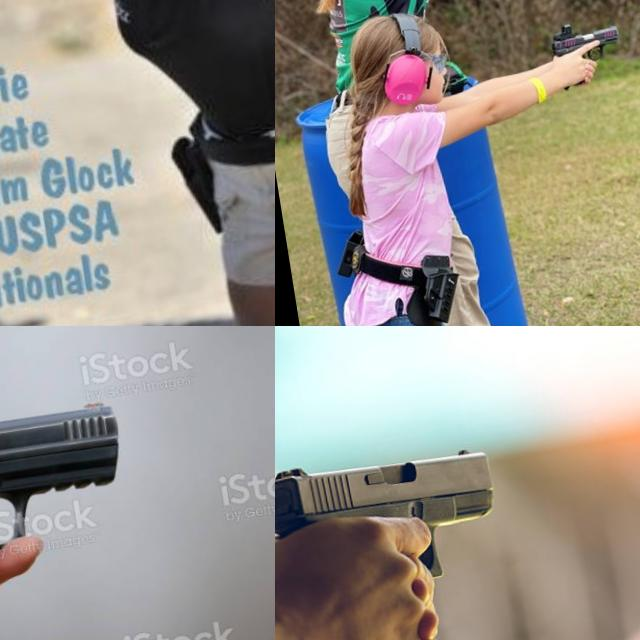handgun: (0, 390, 197, 614), (275, 433, 511, 619), (544, 11, 632, 97), (0, 0, 65, 71), (552, 0, 640, 44)
